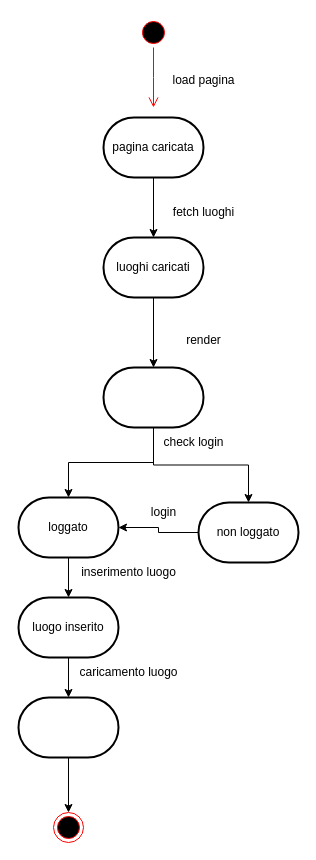
Image size: 316x860. Some labels were removed from this diagram. The shapes that lost their labels are listed below. From the top down, each one's centre as x and y in pixels, then its label:
At point 153,397: "render effettuata".
At point 68,727: "luogo caricato".
